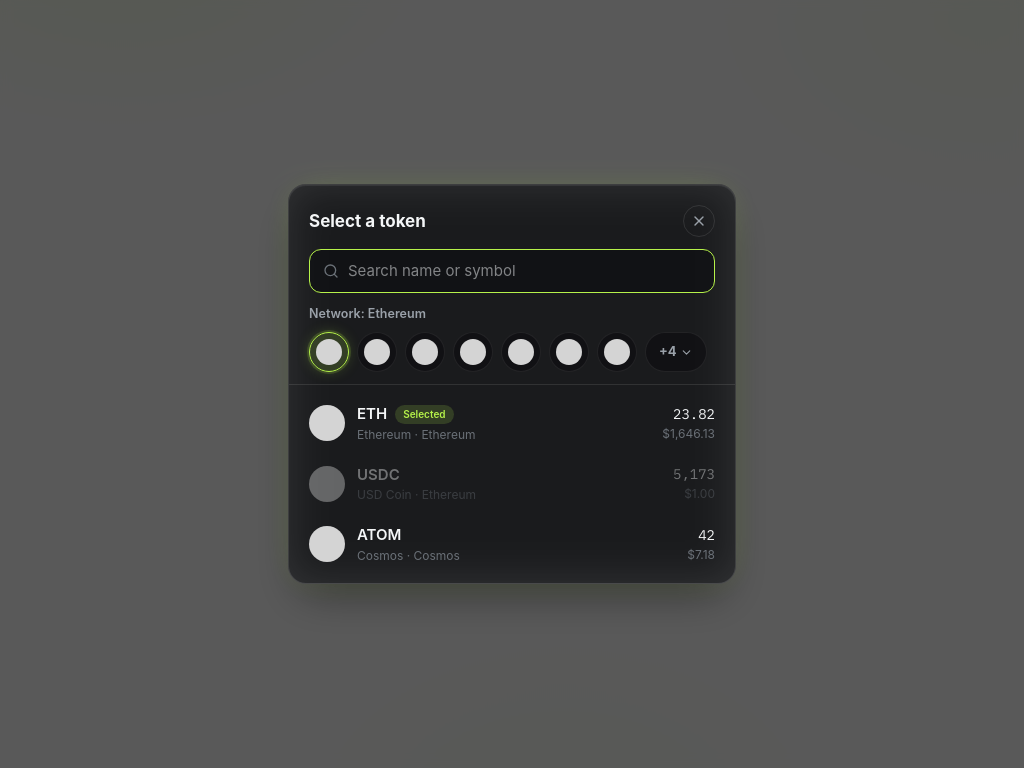
Test: <TokenSelectModal /> › collapses long network lists behind a "+N" toggle
Click the button "+4": (676, 352) x1=645 y1=332 x2=707 y2=372
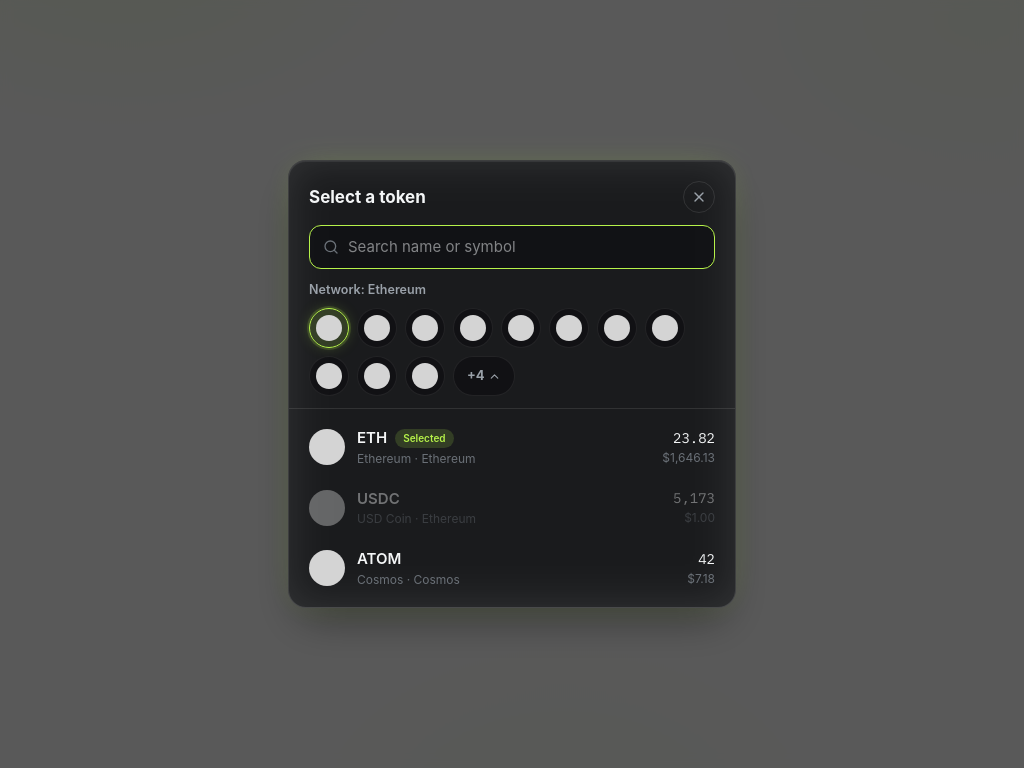
Expected: the button titled "NEAR" is shown, x1=405 y1=356 x2=445 y2=396
